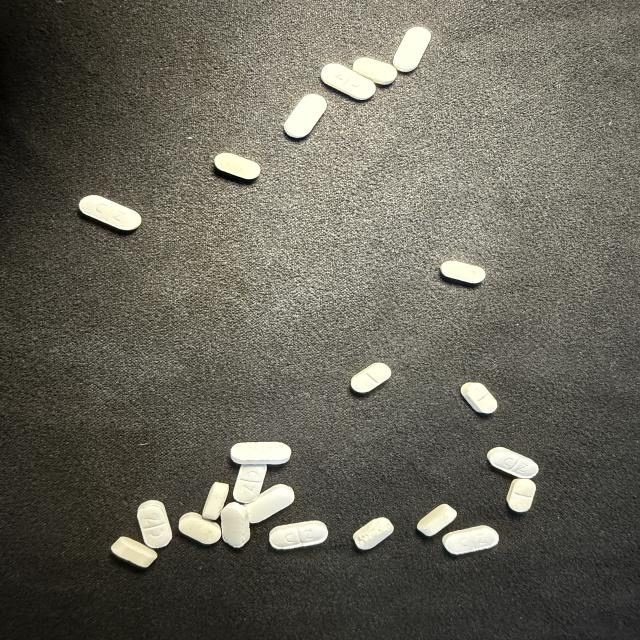pill: (79, 195, 141, 231), (321, 64, 375, 100), (246, 484, 294, 523), (284, 94, 326, 138), (137, 500, 172, 548), (394, 27, 431, 72), (270, 521, 328, 549), (487, 447, 538, 478), (443, 526, 499, 554), (111, 537, 157, 568), (231, 442, 291, 464), (233, 464, 266, 503), (417, 504, 457, 536), (221, 503, 250, 547), (179, 513, 220, 544), (214, 153, 260, 180), (353, 518, 393, 549), (353, 57, 397, 85), (351, 363, 391, 393), (461, 383, 497, 414), (440, 261, 485, 284), (506, 478, 536, 512), (203, 482, 229, 520)
